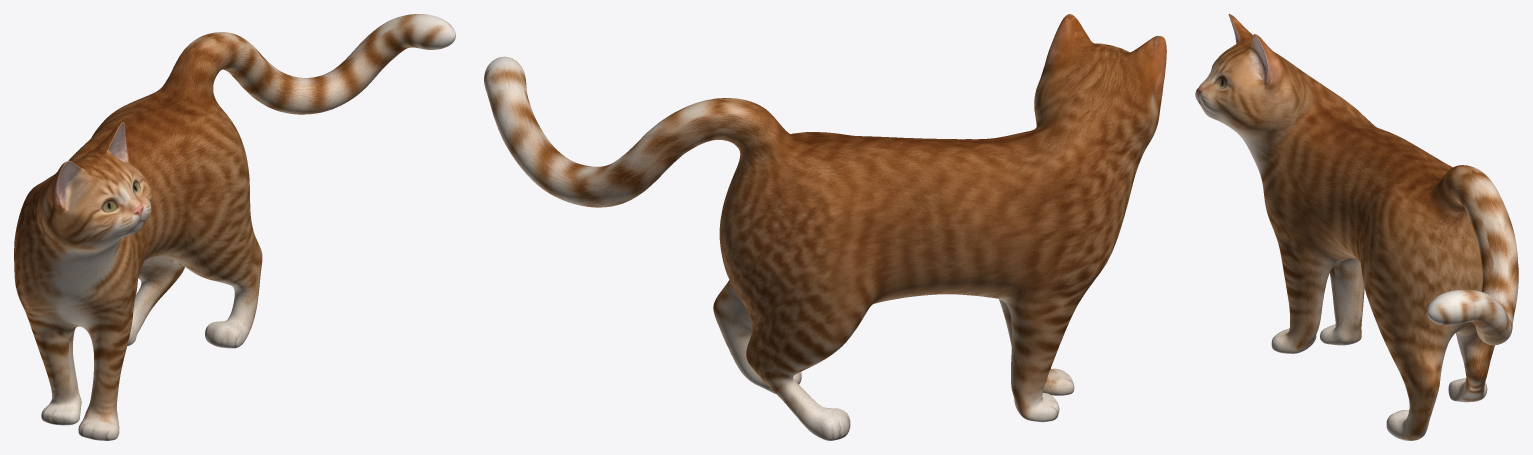
The model's file is Meshy_AI_Orange_Tabby_Study_1012125730_texture.glb.
3 renders of one model, left to right at view 1: azimuth 30°, elevation 25°; view 2: azimuth 150°, elevation 25°; view 3: azimuth 270°, elevation 25°, orthographic. The views are drawn at different scales.
Size of the model in its own units: 1.9 by 1.17 by 1.09.
Materials: 1 (1 with a texture image).
